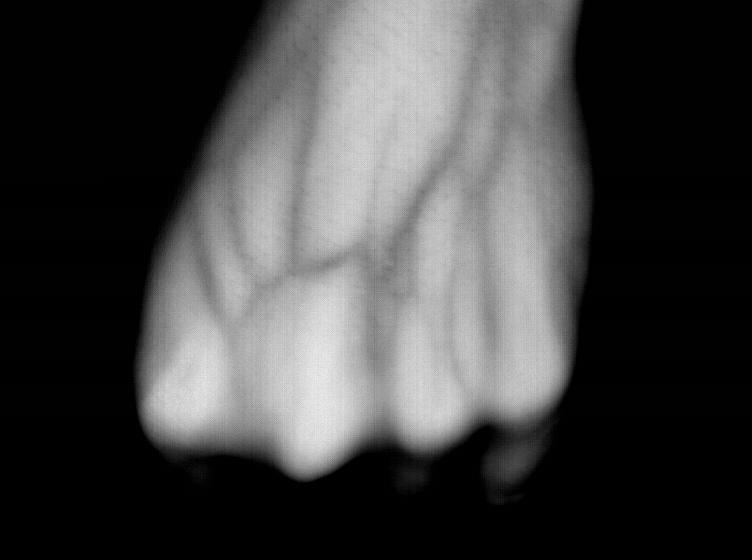Vein: (288, 69, 447, 338)
